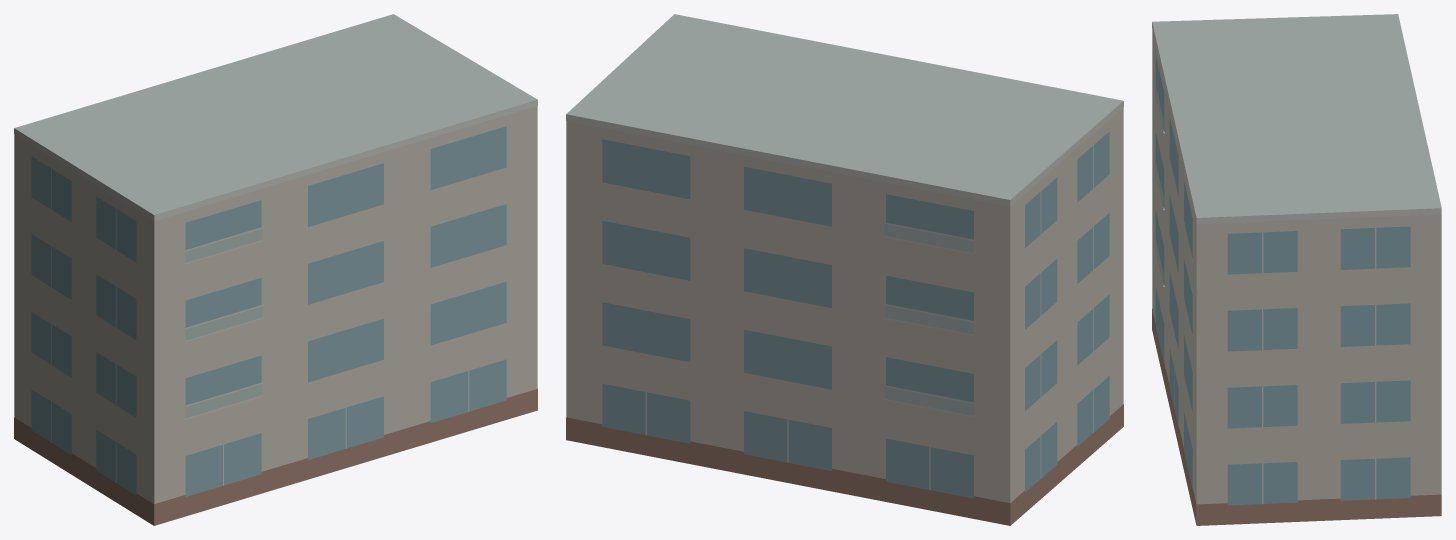
File: survey-upis-32630591.glb
3 views of the same model, side by side, from view 1: azimuth 30°, elevation 25°; view 2: azimuth 150°, elevation 25°; view 3: azimuth 270°, elevation 25° (orthographic). The views are drawn at different scales.
Visible parts, largest first — view 1: survey-upis-32630591.tmp; view 2: survey-upis-32630591.tmp; view 3: survey-upis-32630591.tmp.
Boxes of the visible parts, left/top/right/bottom form: survey-upis-32630591.tmp: left=14, top=14, right=537, bottom=525; survey-upis-32630591.tmp: left=566, top=14, right=1123, bottom=525; survey-upis-32630591.tmp: left=1152, top=14, right=1441, bottom=525.
Bounding box in the file's own units: 17.49 × 12.3 × 10.5.
